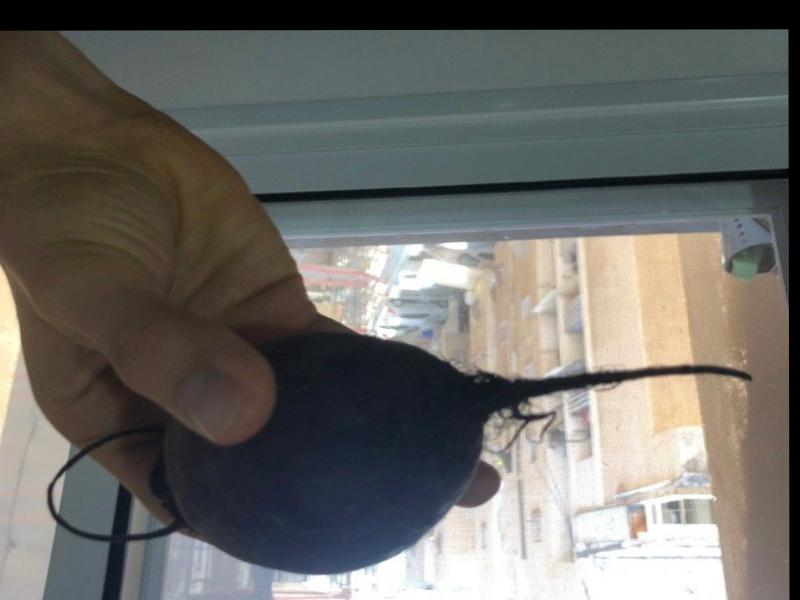Beet: (49, 332, 754, 575)
